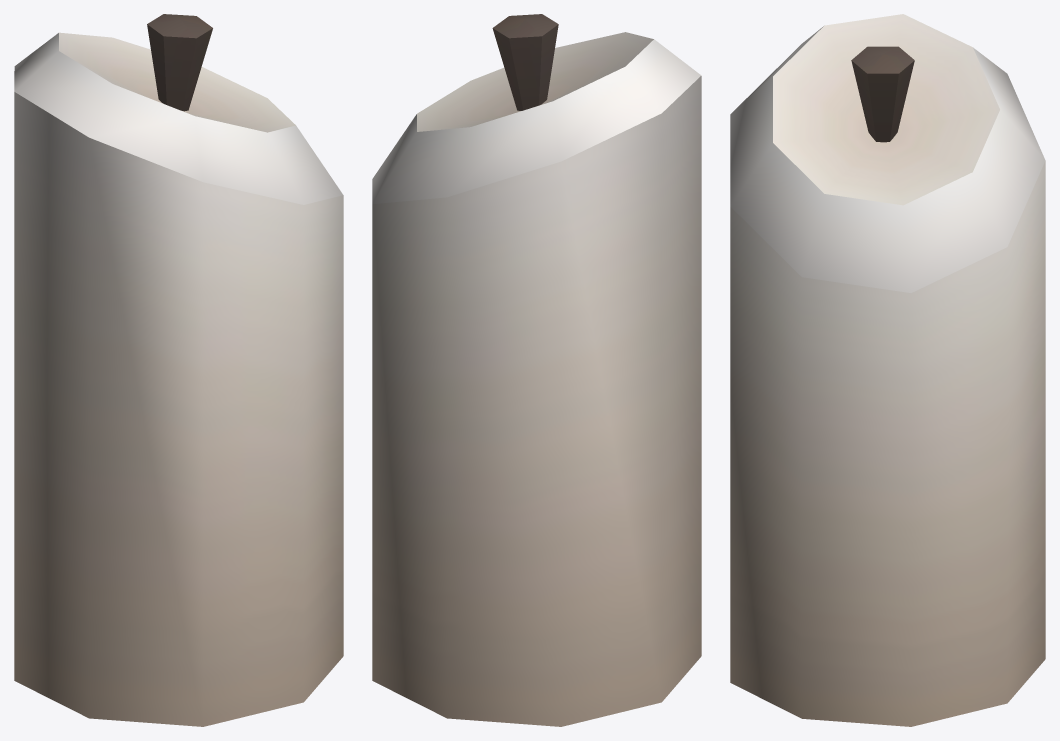
The model's file is candle_melted.glb.
3 renders of one model, left to right at view 1: azimuth 30°, elevation 25°; view 2: azimuth 150°, elevation 25°; view 3: azimuth 270°, elevation 25°, orthographic. The views are drawn at different scales.
Parts seen in each view (by area): view 1: candle_melted; view 2: candle_melted; view 3: candle_melted.
Boxes of the visible parts, bbox=[...] form: candle_melted: bbox=[14, 14, 343, 726]; candle_melted: bbox=[372, 14, 701, 726]; candle_melted: bbox=[730, 14, 1045, 726].
Bounding box in the file's own units: 0.3344 × 0.7015 × 0.3293.
Materials: 1 (1 with a texture image).
